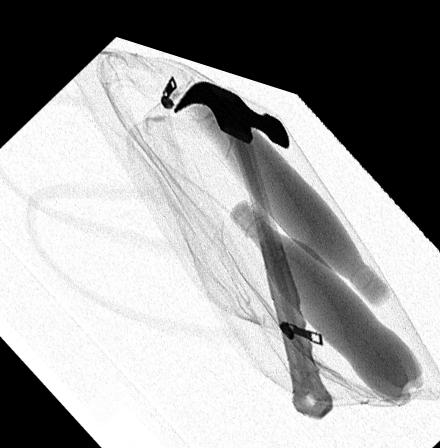Hammer: (172, 67, 334, 402)
